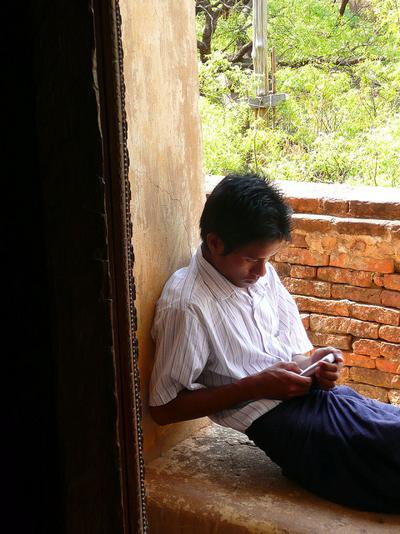person: (148, 173, 400, 518)
